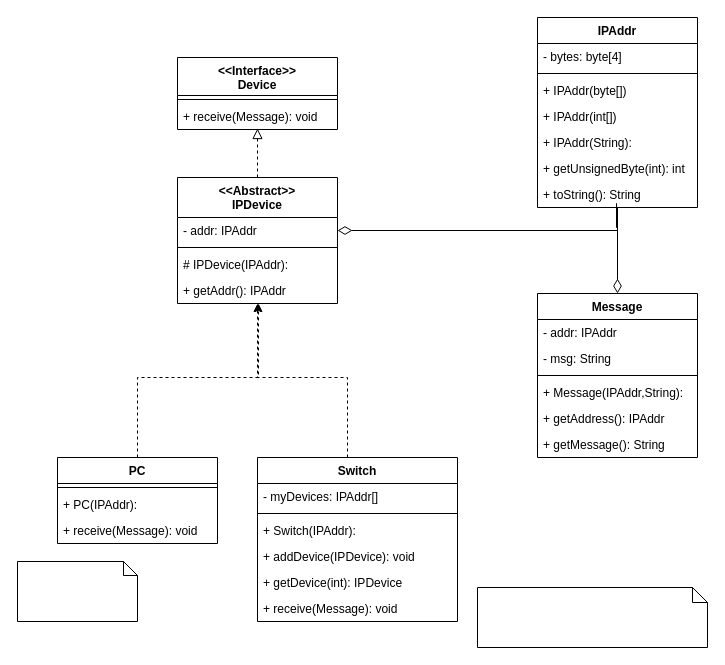
The diagram is 725 pixels wide and 665 high, and some of its shapes have lost their labels. Here are the shapes that lost their labels. From the top down, the centre of each, then its label:
the point at 77,591: println(addr + msg)
the point at 592,617: index = getIndex(msg.getAddress()); myDevices[index].receive(msg);
